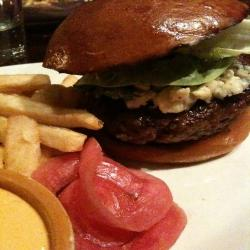burger: (40, 2, 249, 178)
fries: (3, 66, 102, 189)
